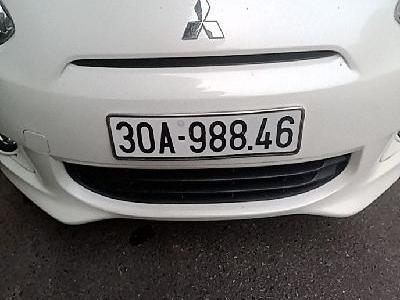car: (106, 108, 307, 162)
